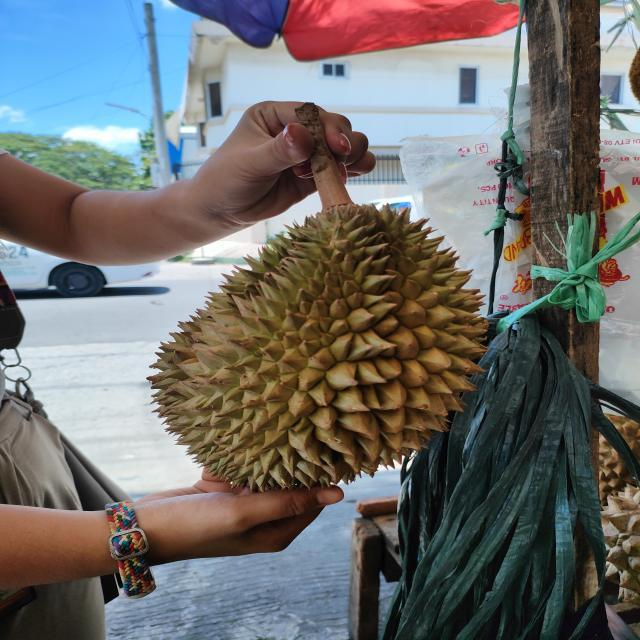mature: (144, 200, 491, 492)
